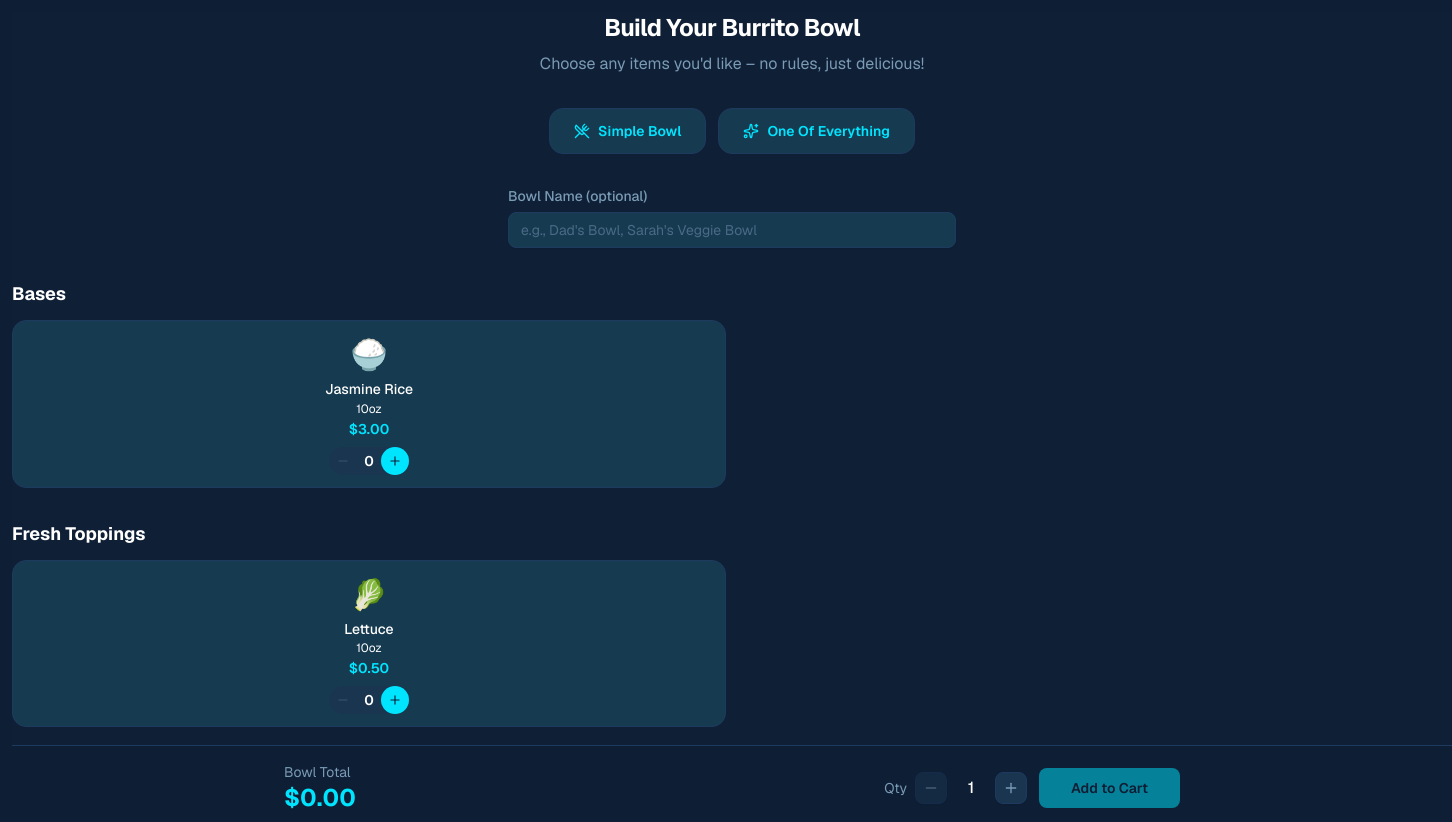
Test: BowlBuilder › clicking ingredient card increments quantity each time (does not toggle)
// Click lettuce card area 3 times
Click the text "Lettuce" at {"x": 369, "y": 629}, box [344,620,394,638]
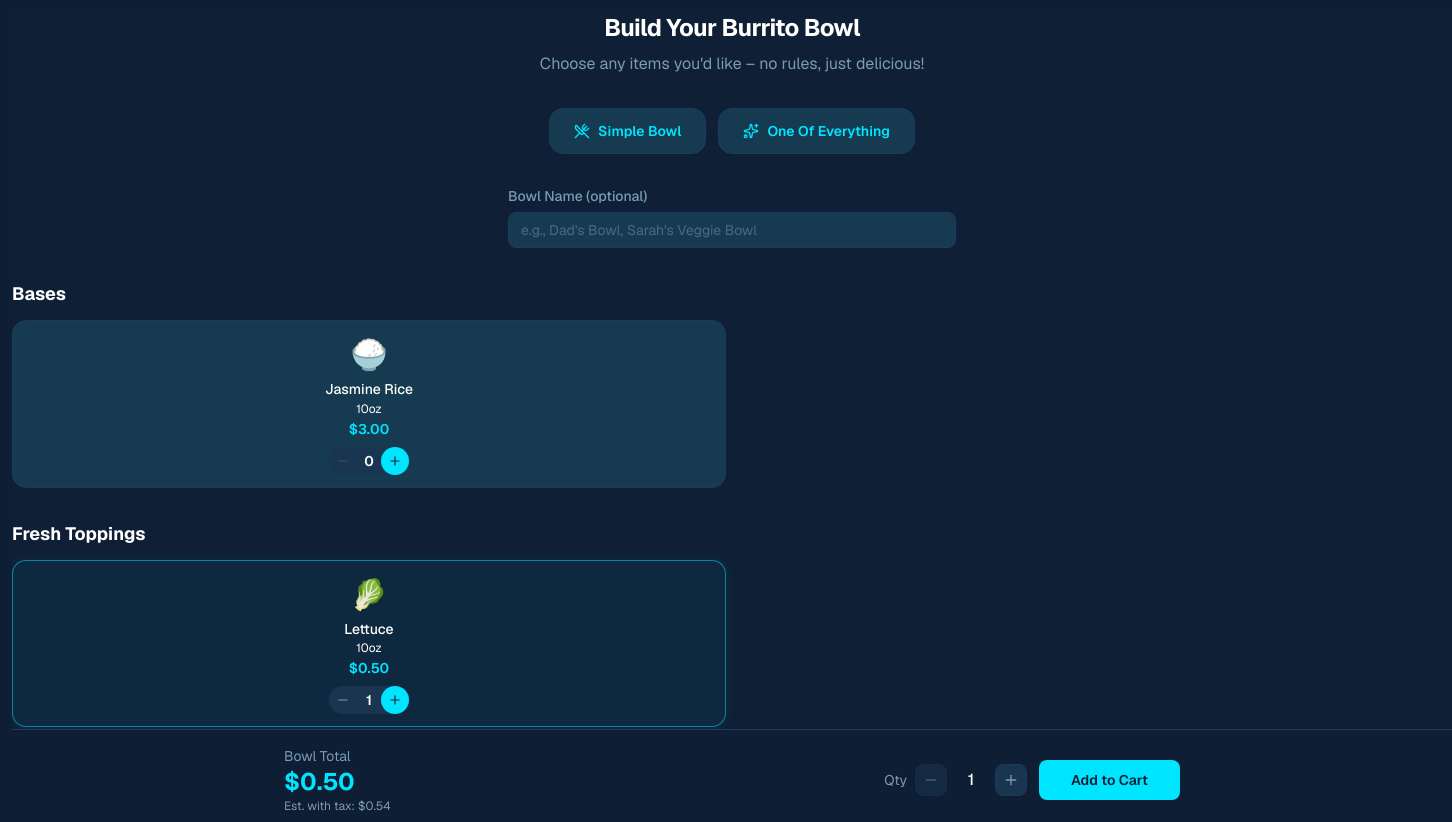
Click the text "Lettuce" at {"x": 369, "y": 629}, box [344,620,394,638]
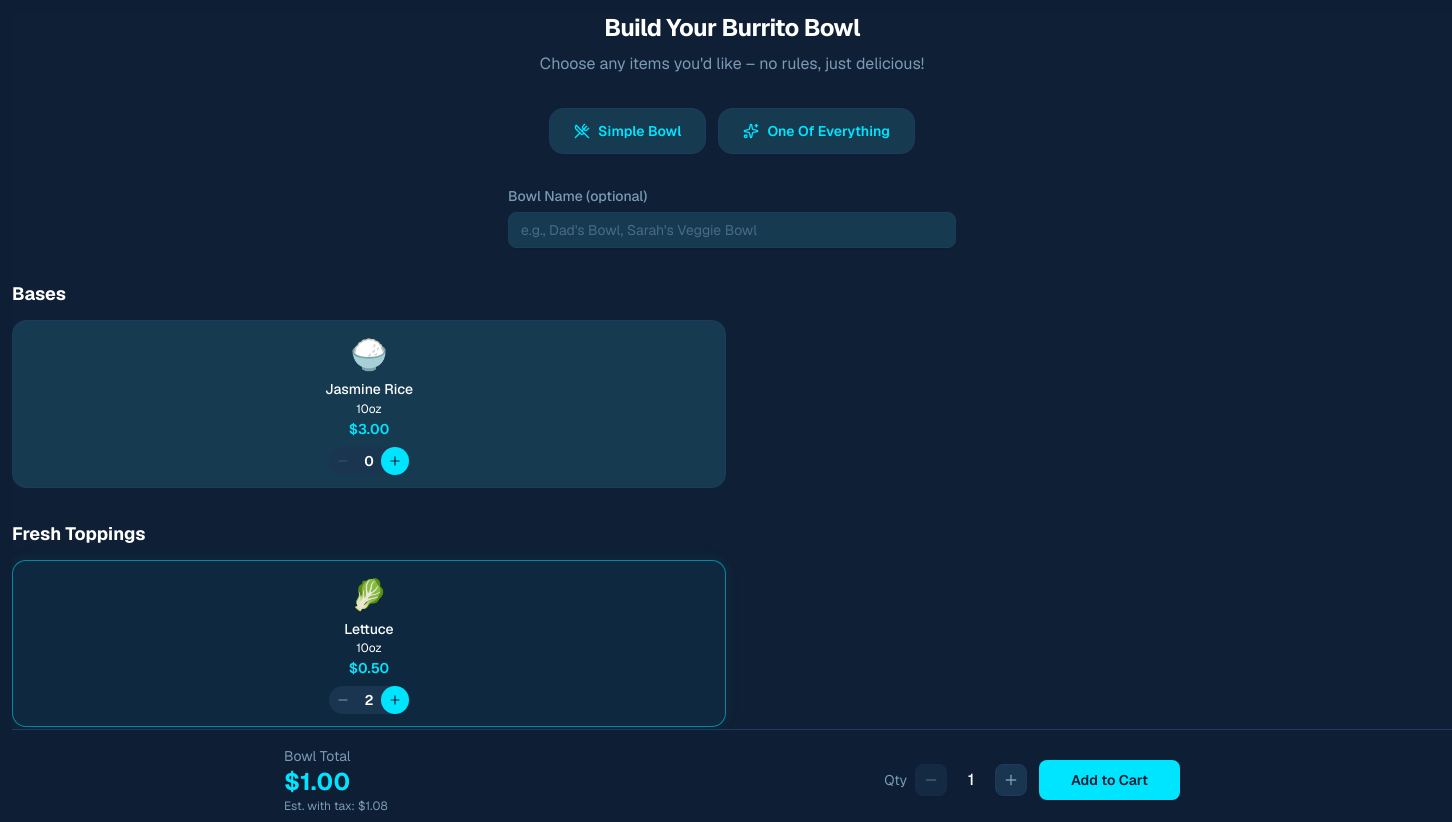
Click the text "Lettuce" at {"x": 369, "y": 629}, box [344,620,394,638]
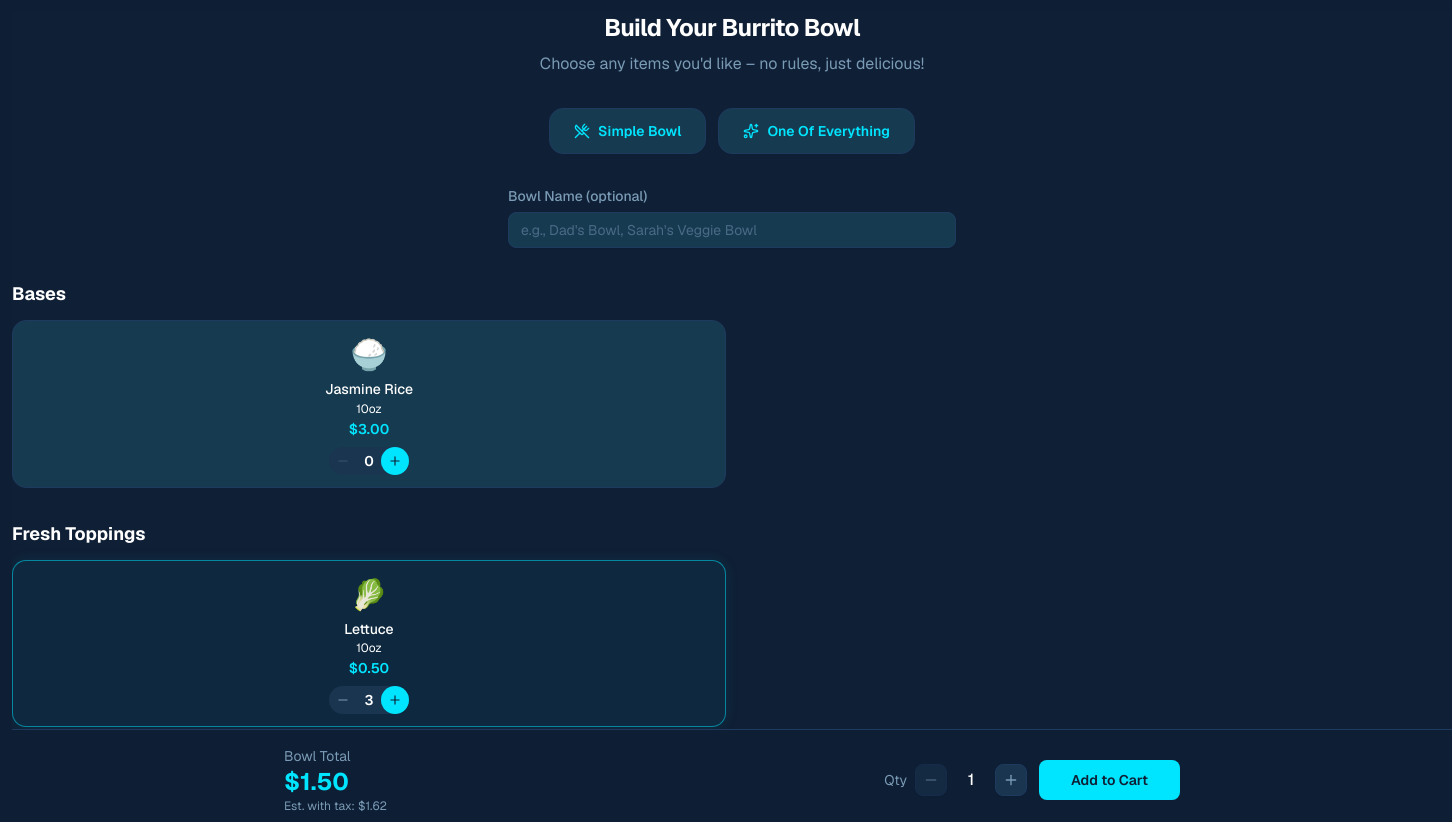
Now the text "$1.50" is shown, box [284,766,349,797]
